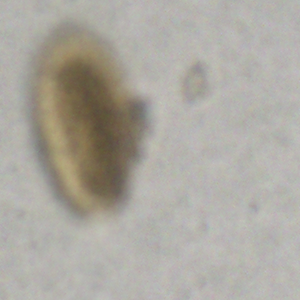Fasciola_hepatica_egg: (33, 20, 130, 219)
